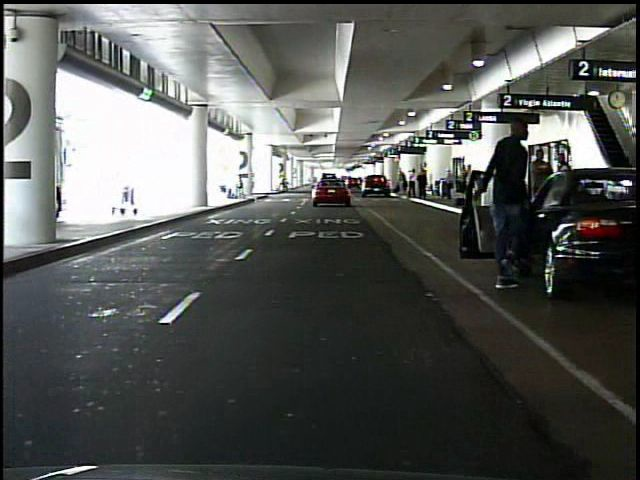person: (481, 113, 545, 297), (528, 147, 556, 231), (555, 151, 576, 232), (460, 164, 471, 206), (417, 169, 429, 201), (443, 168, 455, 200), (407, 167, 418, 200), (399, 171, 409, 197), (280, 174, 289, 191)
